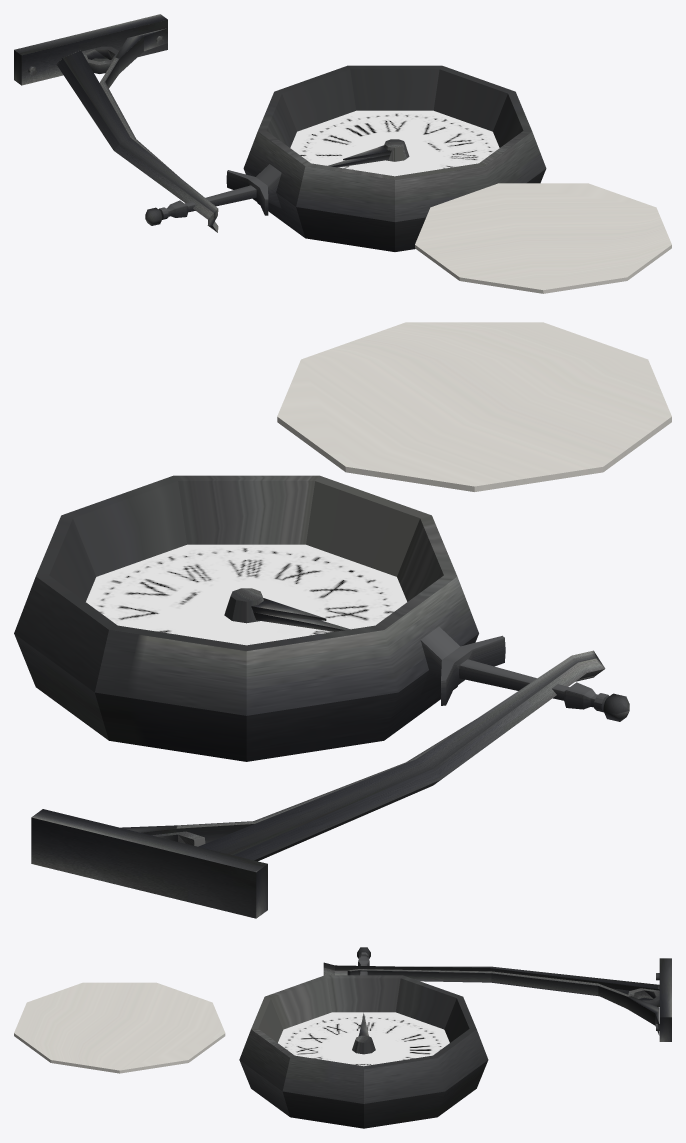
Rendered from clock.FBX.
3 views of the same model, one above another, from view 1: azimuth 30°, elevation 25°; view 2: azimuth 150°, elevation 25°; view 3: azimuth 270°, elevation 25° (orthographic). The views are drawn at different scales.
Parts seen in each view (by area): view 1: Cylinder001, Object001, Object003, Box001, Box002, Box003, Cylinder002; view 2: Cylinder001, Object001, Object003, Box002, Box001, Box003; view 3: Cylinder001, Object001, Object003, Box003, Box001, Box002, Cylinder002.
Part boxes in pixels (<box>): Cylinder001: <box>158,65,546,251</box>; Object001: <box>415,183,671,293</box>; Object003: <box>290,110,499,176</box>; Box001: <box>56,50,218,232</box>; Box002: <box>14,14,167,85</box>; Box003: <box>99,28,214,205</box>; Cylinder002: <box>82,46,118,73</box>; Cylinder001: <box>14,475,609,761</box>; Object001: <box>277,322,671,491</box>; Object003: <box>86,544,406,645</box>; Box002: <box>31,809,267,918</box>; Box001: <box>198,650,605,861</box>; Box003: <box>120,720,474,843</box>; Cylinder001: <box>239,952,488,1128</box>; Object001: <box>14,982,225,1073</box>; Object003: <box>278,1012,449,1066</box>; Box003: <box>347,969,659,1035</box>; Box001: <box>323,962,659,1000</box>; Box002: <box>659,958,671,1041</box>; Cylinder002: <box>628,988,659,1007</box>.
Bounding box in the file's own units: 138 × 24.83 × 249.
Materials: 4 (4 with a texture image).
